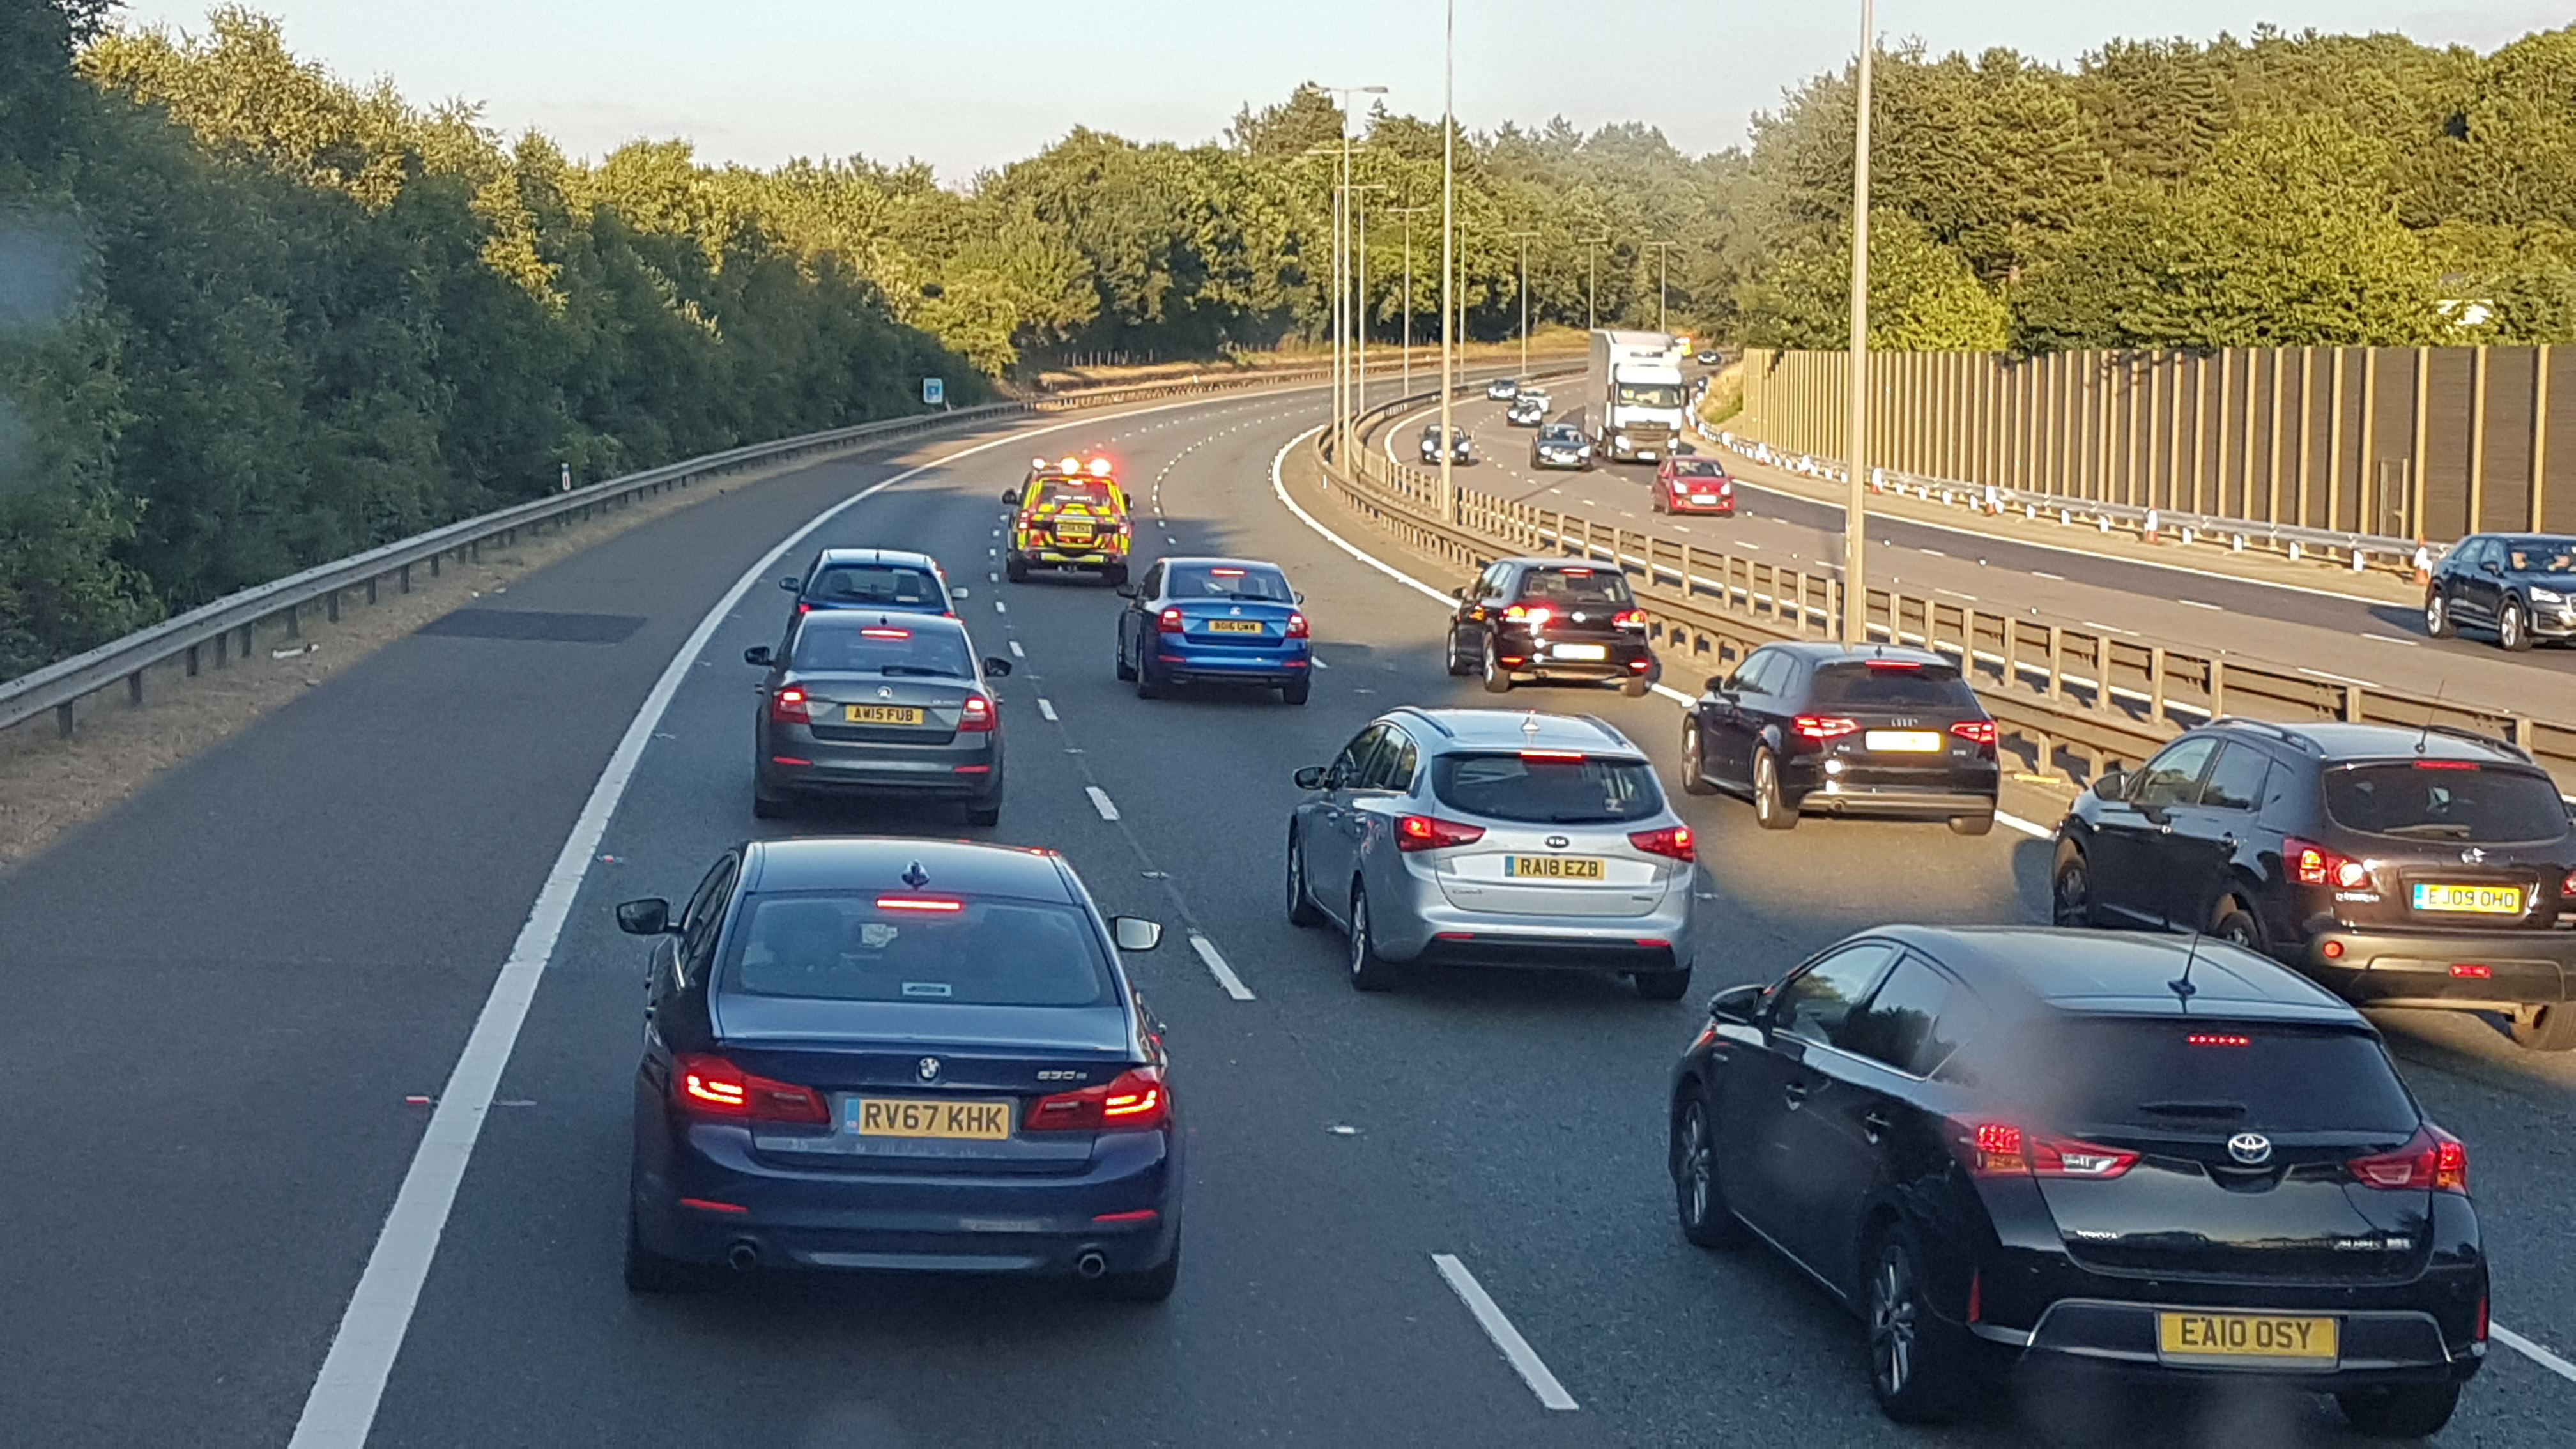car: (1683, 892, 2500, 1442), (633, 824, 1177, 1336), (2052, 729, 2576, 1054), (1674, 607, 2005, 849), (752, 607, 1012, 824), (1430, 554, 1674, 704), (1129, 554, 1323, 708), (994, 458, 1146, 593), (2427, 529, 2576, 655), (1582, 329, 1686, 458), (1649, 453, 1736, 518), (1523, 421, 1599, 478), (1421, 421, 1477, 460), (1513, 391, 1555, 414), (1479, 377, 1522, 396)
